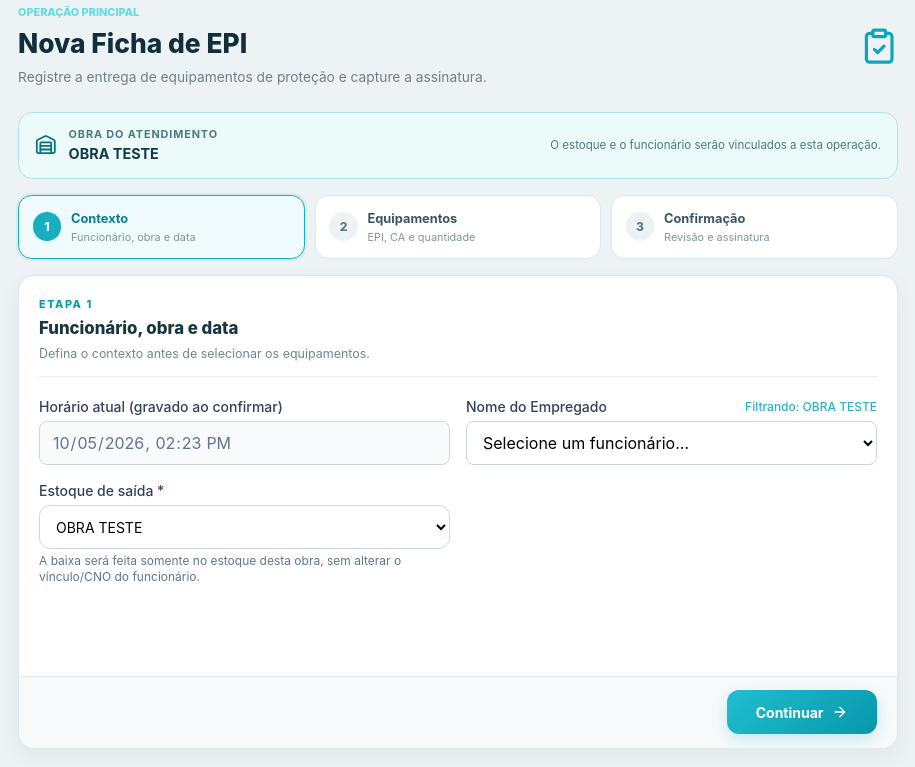
validações de entrega em componente isolado › bloqueia retirada maior que o saldo
Select "FUNCIONARIO FICTICIO (TESTE) - OBRA TESTE" in the dropdown labelled "Nome do Empregado" at (672, 443), box [466,421,877,465]
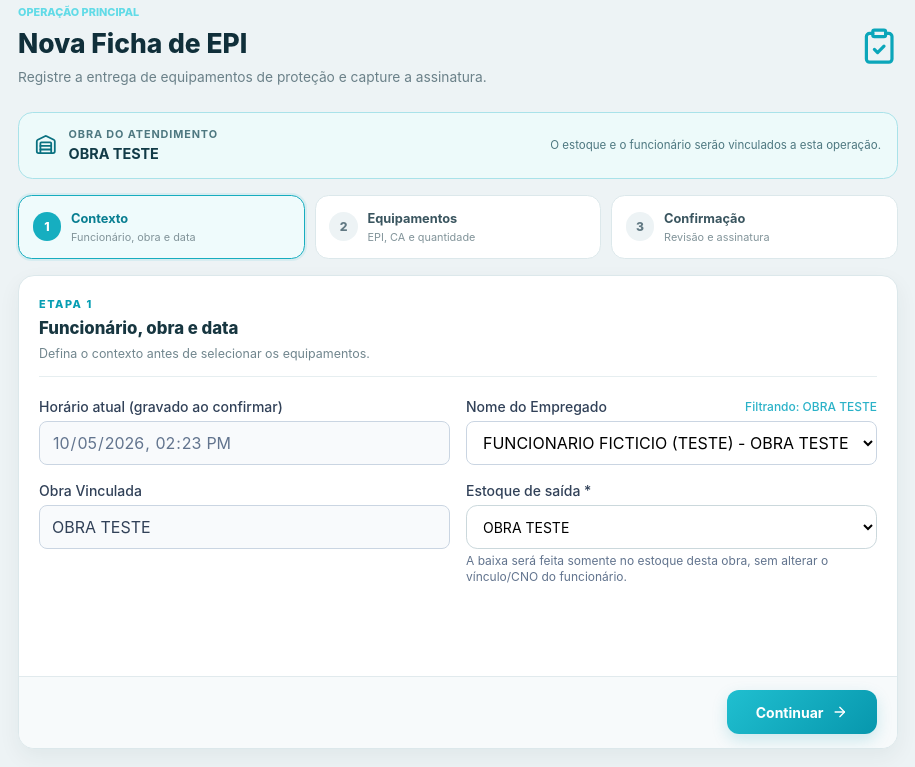
Click the button "Continuar" at (802, 712), box [727,690,877,734]
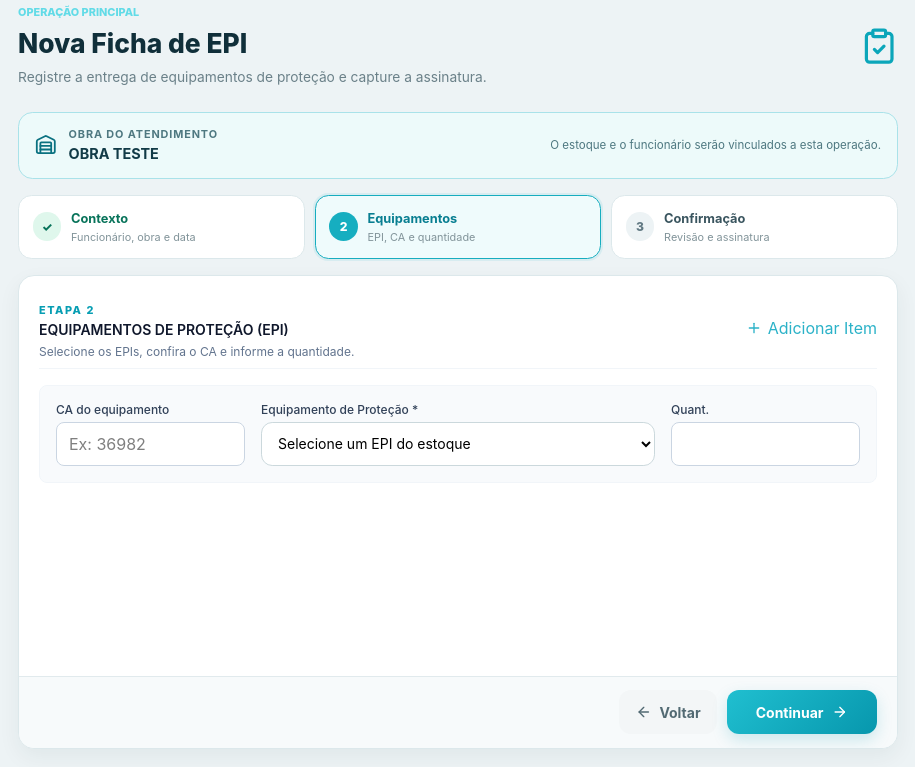
Result: the dropdown labelled "Equipamento de Proteção *" is shown
Select "LUVA TESTE · CA: 111 · 2 PAR · Código: m1" in the dropdown labelled "Equipamento de Proteção *" at (458, 444), box [261,422,655,466]
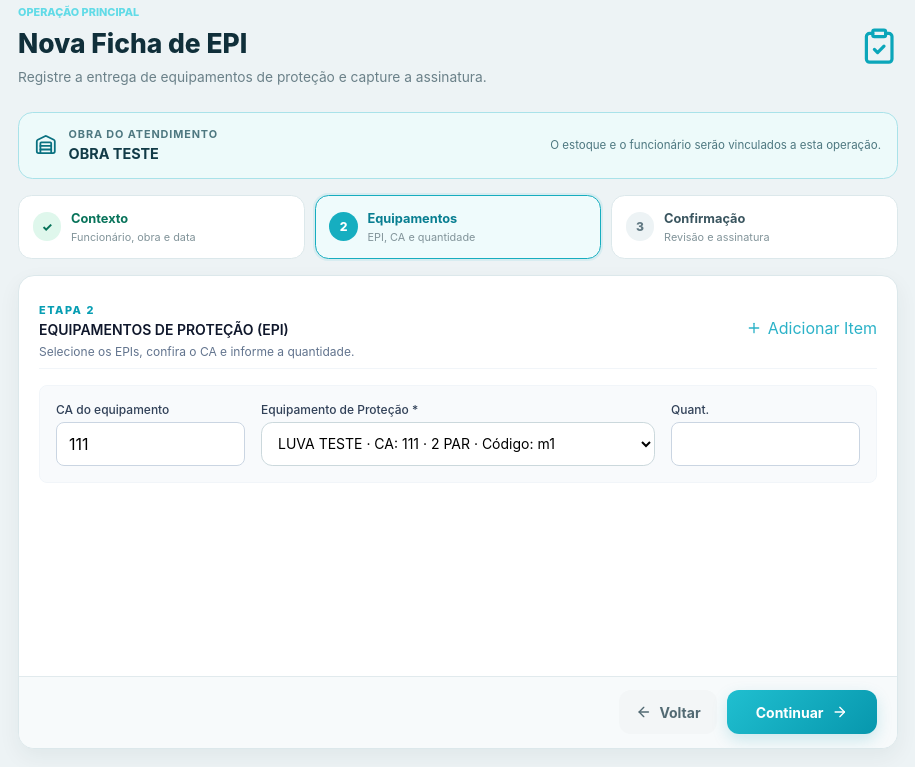
Type "3" into the number field at (766, 444), box [671,422,860,466]
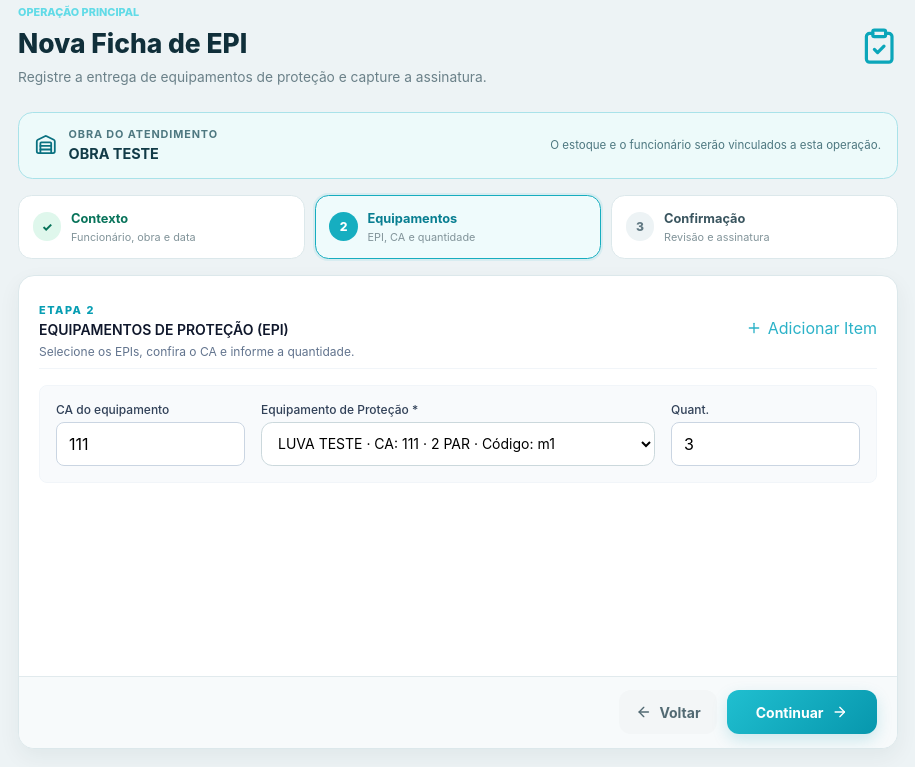
Click the button "Continuar" at (802, 712), box [727,690,877,734]
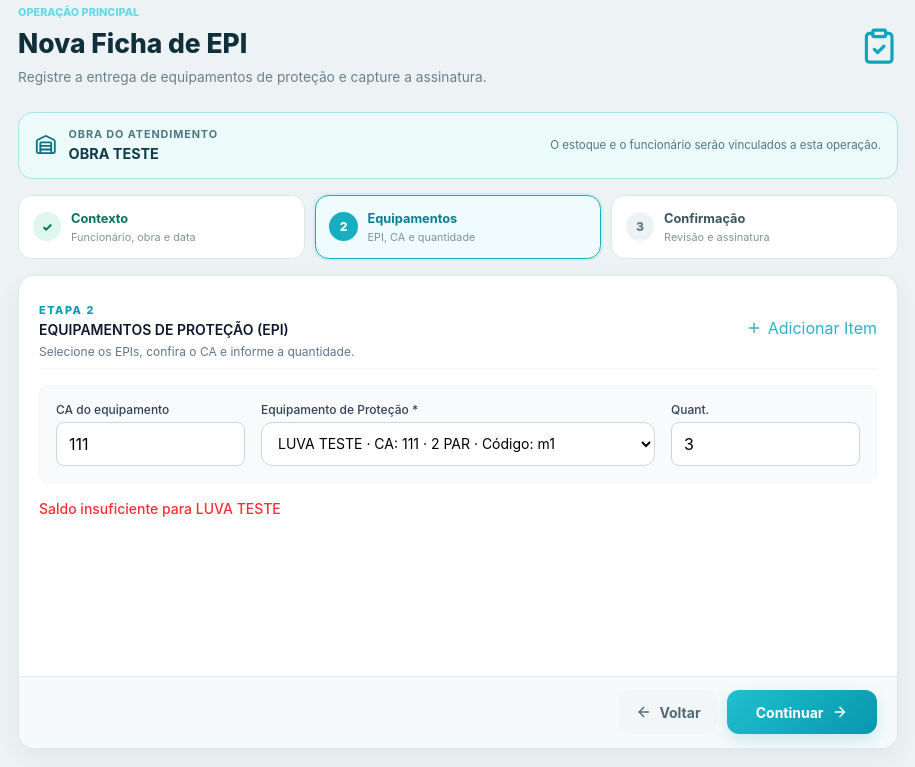
Result: the text "Saldo insuficiente para LUVA TESTE" is shown at [39,500,281,517]
